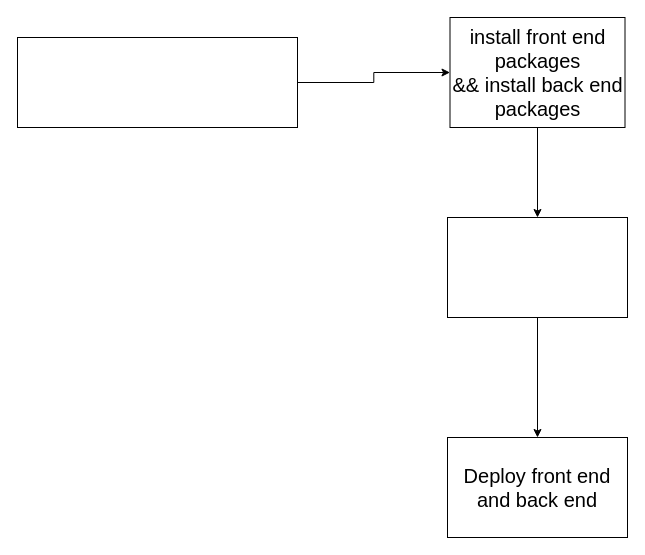
The diagram is 645 pixels wide and 555 high, and some of its shapes have lost their labels. Here are the shapes that lost their labels. From the top down, the centre of each, then its label:
At point 157,82: "build_and_deploy Job".
At point 537,267: "build front end and back end".
